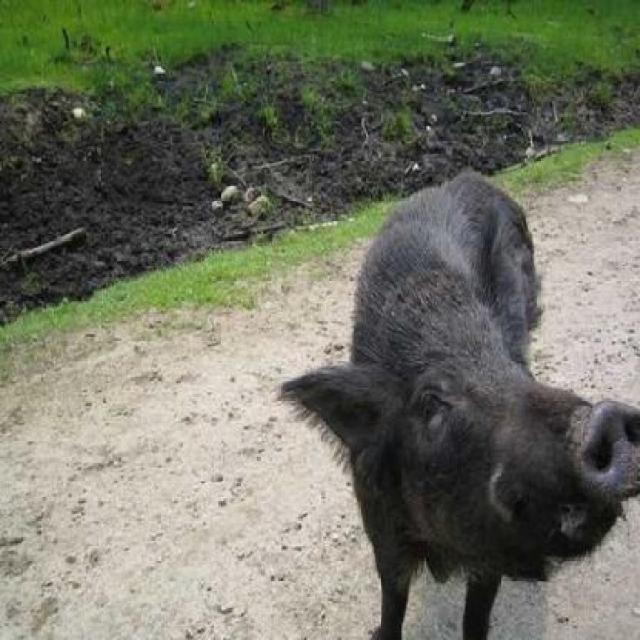pig: (320, 152, 638, 638)
